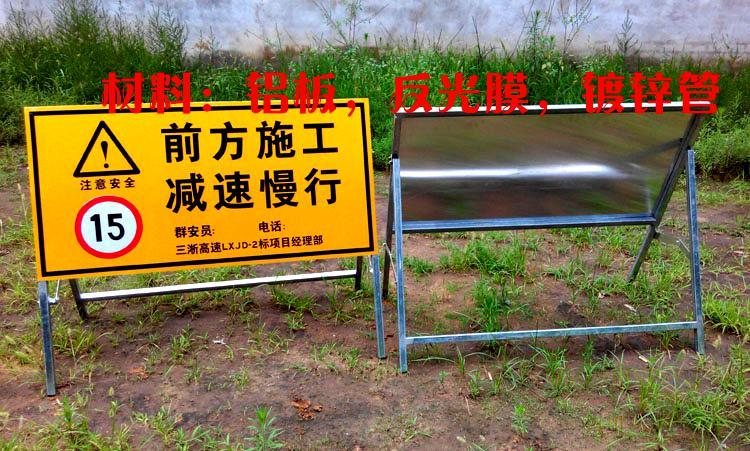sign: (34, 106, 370, 276)
